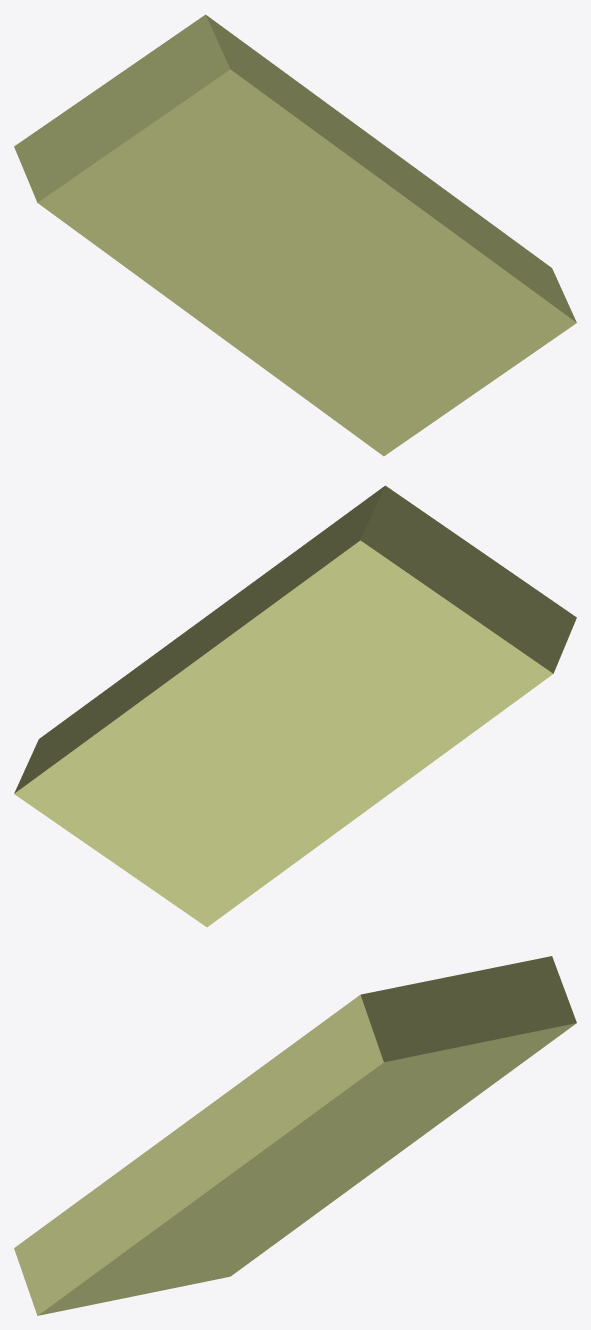
The picture shows the model from 3 angles, top to bottom: view 1: azimuth 30°, elevation 25°; view 2: azimuth 150°, elevation 25°; view 3: azimuth 330°, elevation 25°; orthographic projection.
Visible parts, largest first — view 1: 0_2_2_0_0_0_3_1_1_1_3_0; view 2: 0_2_2_0_0_0_3_1_1_1_3_0; view 3: 0_2_2_0_0_0_3_1_1_1_3_0.
Boxes of the visible parts, bbox=[...] form: 0_2_2_0_0_0_3_1_1_1_3_0: bbox=[14, 14, 576, 456]; 0_2_2_0_0_0_3_1_1_1_3_0: bbox=[14, 485, 576, 927]; 0_2_2_0_0_0_3_1_1_1_3_0: bbox=[14, 956, 576, 1315].
Size of the model in its own units: 3.25 by 2.11 by 9.
